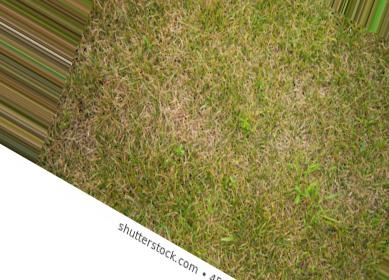patch: (163, 53, 273, 173), (98, 70, 144, 116), (236, 180, 288, 213), (63, 136, 97, 168), (288, 86, 306, 142)
